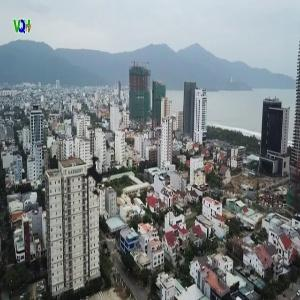drone: (61, 139, 138, 216)
